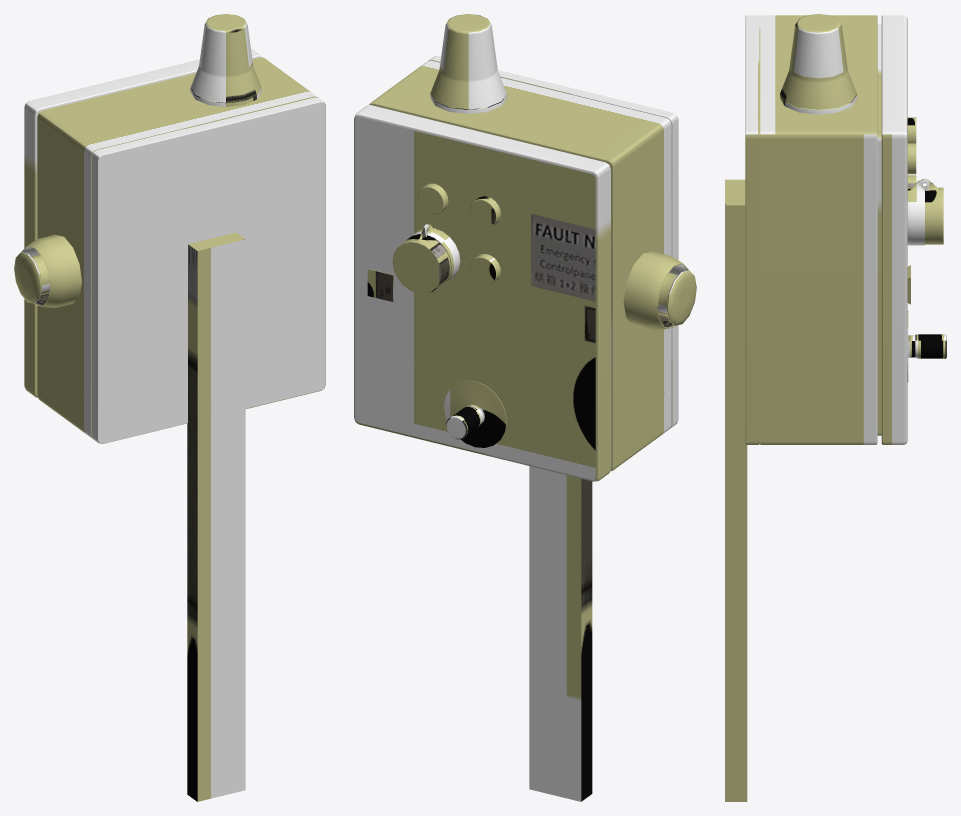
Rendered from prop3.fbx.
The picture shows the model from 3 angles, left to right: view 1: azimuth 30°, elevation 25°; view 2: azimuth 150°, elevation 25°; view 3: azimuth 270°, elevation 25°; orthographic projection. The views are drawn at different scales.
Parts seen in each view (by area): view 1: polySurface2; view 2: polySurface2, polySurface1; view 3: polySurface2, polySurface1.
Boxes of the visible parts, x1=… form: polySurface2: x1=14, y1=14, x2=325, y2=801; polySurface2: x1=354, y1=14, x2=696, y2=801; polySurface1: x1=392, y1=228, x2=450, y2=294; polySurface2: x1=725, y1=14, x2=946, y2=801; polySurface1: x1=923, y1=181, x2=943, y2=244.
Size of the model in its own units: 1.17 by 3.06 by 0.7765.
1 material, 1 textured.
